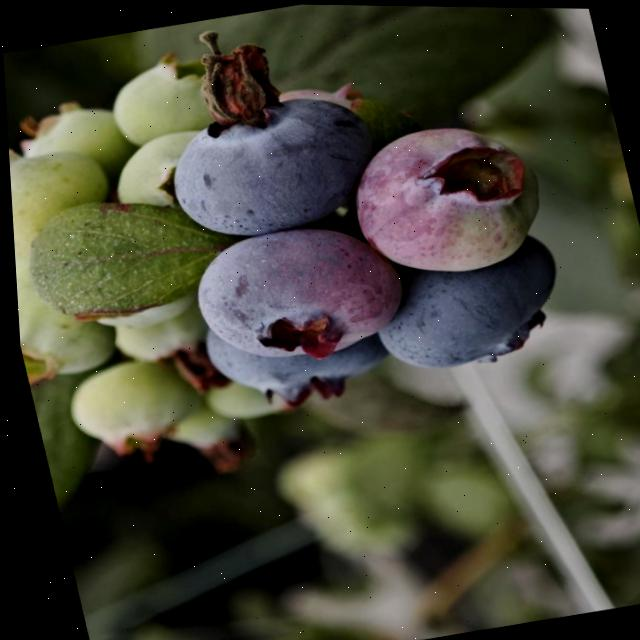RipeBlueBerry: (155, 86, 388, 247), (356, 226, 571, 377)
Semi-RipeBlueBerry: (339, 108, 555, 285), (182, 211, 411, 372)
UnripeBlueBerry: (56, 356, 196, 459), (7, 140, 121, 261), (99, 49, 228, 152)
